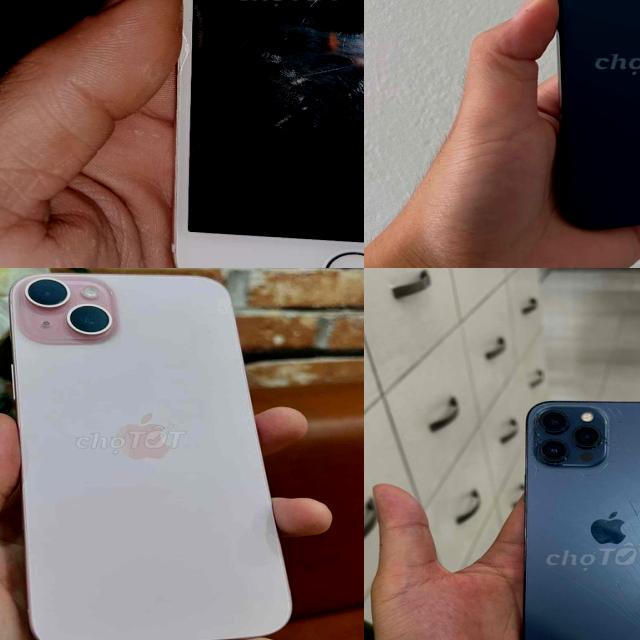physical_damage: (526, 482, 640, 640), (529, 399, 629, 482)
